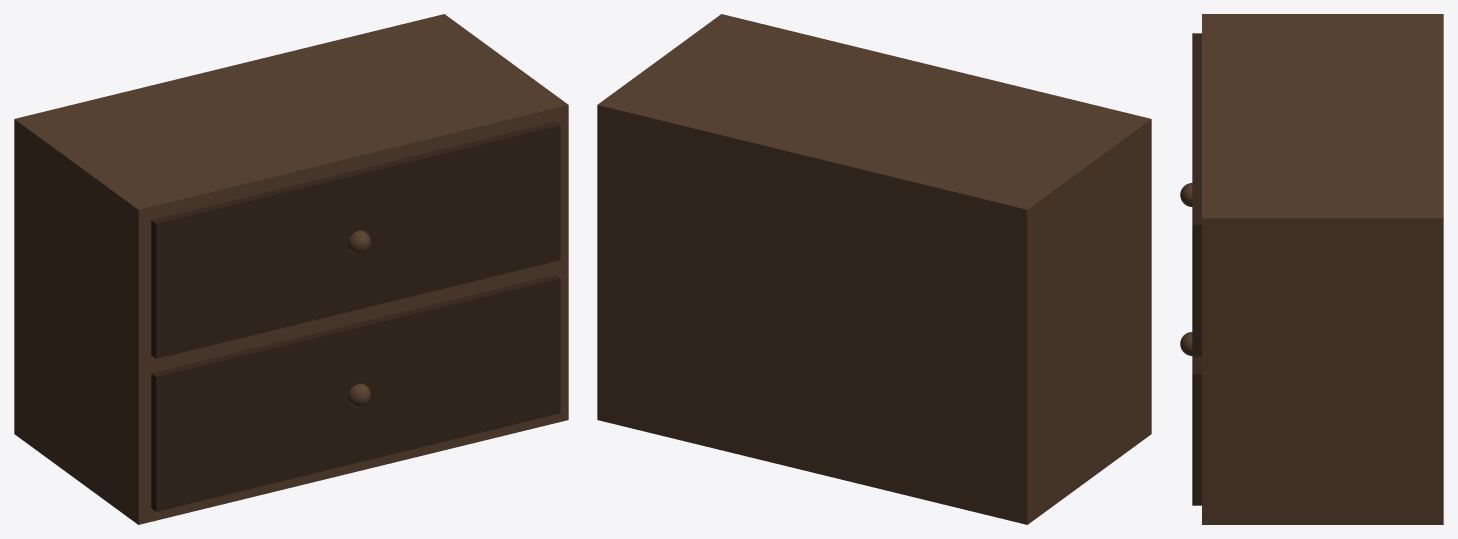
Rendered from Dresser.glb.
3 renders of one model, left to right at view 1: azimuth 30°, elevation 25°; view 2: azimuth 150°, elevation 25°; view 3: azimuth 270°, elevation 25°, orthographic. The views are drawn at different scales.
Visible parts, largest first — view 1: Dresser; view 2: Dresser; view 3: Dresser.
Part boxes in pixels (<box>): Dresser: <box>14,14,568,524</box>; Dresser: <box>597,14,1151,524</box>; Dresser: <box>1180,14,1443,524</box>.
Bounding box in the file's own units: 1 × 0.7 × 0.545.
